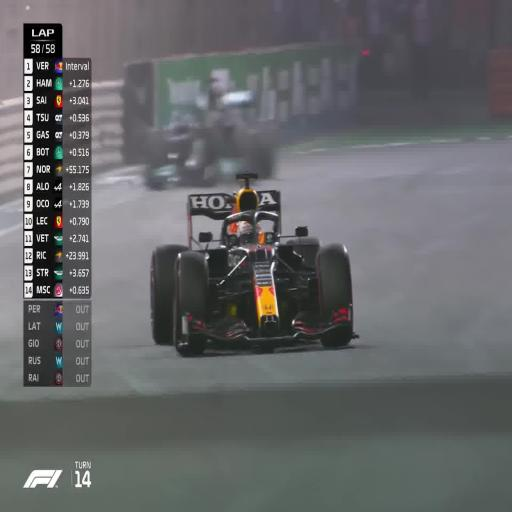f1_car: (150, 174, 358, 355), (134, 72, 281, 193)
